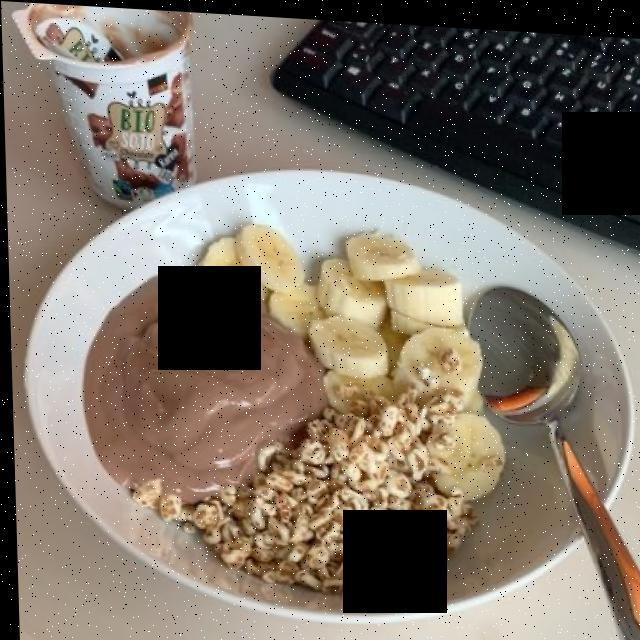banana: (211, 221, 468, 380)
